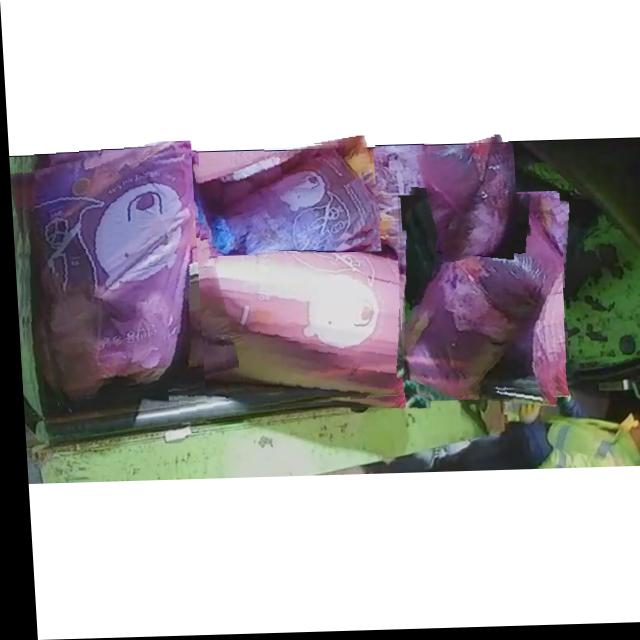other_trashbag: (163, 227, 425, 400), (18, 142, 192, 399), (398, 197, 559, 397), (195, 145, 376, 256), (425, 139, 508, 264)
